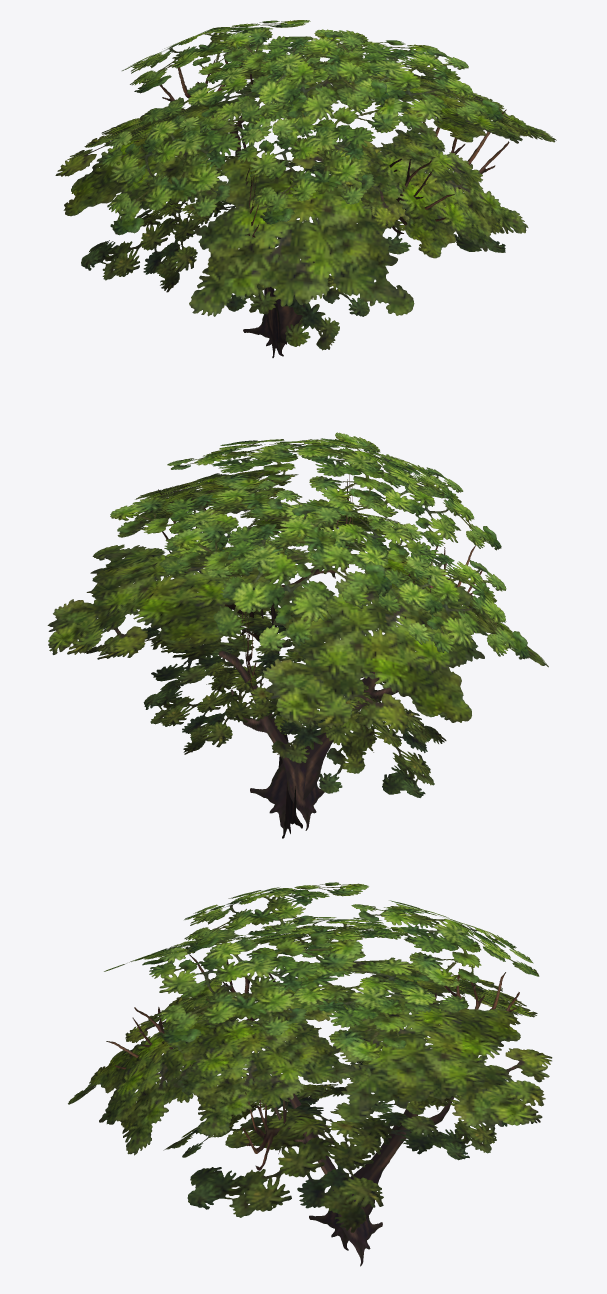
File: JiaYeSi_GuanMu_3.FBX
3 renders of one model, top to bottom at view 1: azimuth 30°, elevation 25°; view 2: azimuth 150°, elevation 25°; view 3: azimuth 270°, elevation 25°, orthographic. The views are drawn at different scales.
Visible parts, largest first — view 1: JiaYeSi_GuanMu_3; view 2: JiaYeSi_GuanMu_3; view 3: JiaYeSi_GuanMu_3.
Part boxes in pixels (left/top/right/bottom): JiaYeSi_GuanMu_3: left=55, top=20, right=556, bottom=357; JiaYeSi_GuanMu_3: left=47, top=432, right=548, bottom=838; JiaYeSi_GuanMu_3: left=68, top=882, right=552, bottom=1266.
Size of the model in its own units: 88.25 by 62.36 by 86.7.
